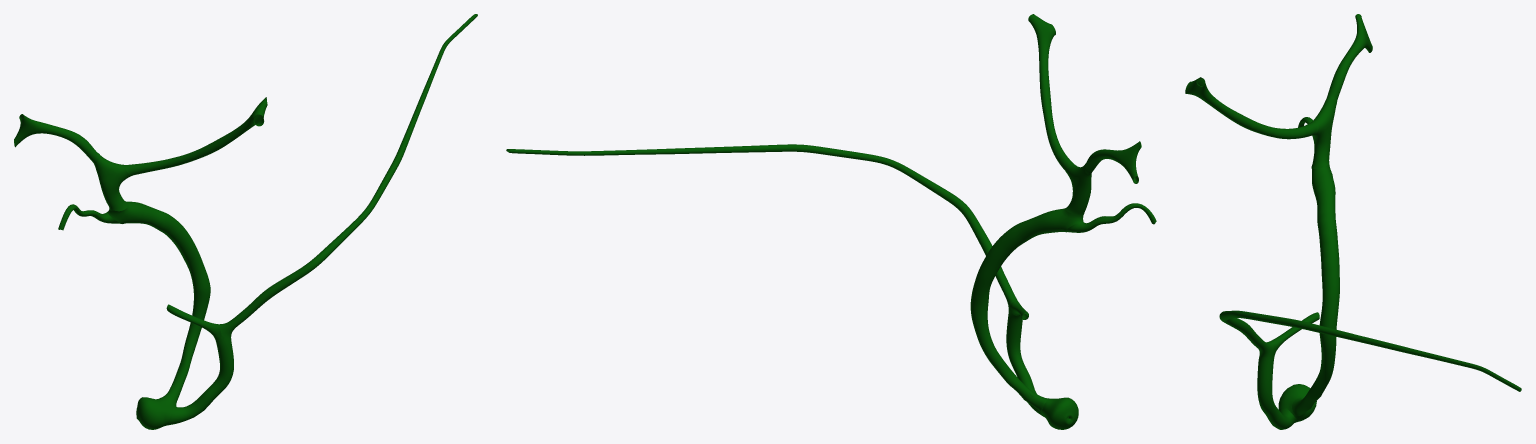
The model's file is VH_M_Biliary_Tree.fbx.
3 views of the same model, side by side, from view 1: azimuth 30°, elevation 25°; view 2: azimuth 150°, elevation 25°; view 3: azimuth 270°, elevation 25° (orthographic). The views are drawn at different scales.
Parts seen in each view (by area): view 1: VH_M_ventral_pancreatic_duct, VH_M_common_bile_duct, VH_M_left_hepatic_duct, VH_M_common_hepatic_duct, VH_M_right_hepatic_duct, VH_M_hepatopancreatic_ampulla, VH_M_dorsal_pancreatic_duct, VH_M_cystic_duct; view 2: VH_M_ventral_pancreatic_duct, VH_M_common_bile_duct, VH_M_left_hepatic_duct, VH_M_right_hepatic_duct, VH_M_hepatopancreatic_ampulla, VH_M_common_hepatic_duct, VH_M_cystic_duct; view 3: VH_M_common_bile_duct, VH_M_ventral_pancreatic_duct, VH_M_left_hepatic_duct, VH_M_common_hepatic_duct, VH_M_right_hepatic_duct, VH_M_hepatopancreatic_ampulla, VH_M_dorsal_pancreatic_duct.
Part boxes in pixels (x1,y1,x2,y2): VH_M_ventral_pancreatic_duct: (167,14,477,425); VH_M_common_bile_duct: (108,201,210,404); VH_M_left_hepatic_duct: (125,97,267,175); VH_M_common_hepatic_duct: (94,154,130,211); VH_M_right_hepatic_duct: (14,114,99,163); VH_M_hepatopancreatic_ampulla: (136,397,176,429); VH_M_dorsal_pancreatic_duct: (166,304,221,337); VH_M_cystic_duct: (58,204,121,230); VH_M_ventral_pancreatic_duct: (506,144,1044,417); VH_M_common_bile_duct: (970,208,1083,411); VH_M_left_hepatic_duct: (1028,14,1075,171); VH_M_right_hepatic_duct: (1084,141,1141,183); VH_M_hepatopancreatic_ampulla: (1040,397,1078,429); VH_M_common_hepatic_duct: (1065,165,1091,214); VH_M_cystic_duct: (1065,203,1156,232); VH_M_common_bile_duct: (1292,164,1339,415); VH_M_ventral_pancreatic_duct: (1219,310,1521,429); VH_M_left_hepatic_duct: (1185,77,1318,139); VH_M_common_hepatic_duct: (1311,98,1336,168); VH_M_right_hepatic_duct: (1326,14,1372,101); VH_M_hepatopancreatic_ampulla: (1278,384,1316,422); VH_M_dorsal_pancreatic_duct: (1269,312,1319,352).
Size of the model in its own units: 13.34 by 8.26 by 6.61.
